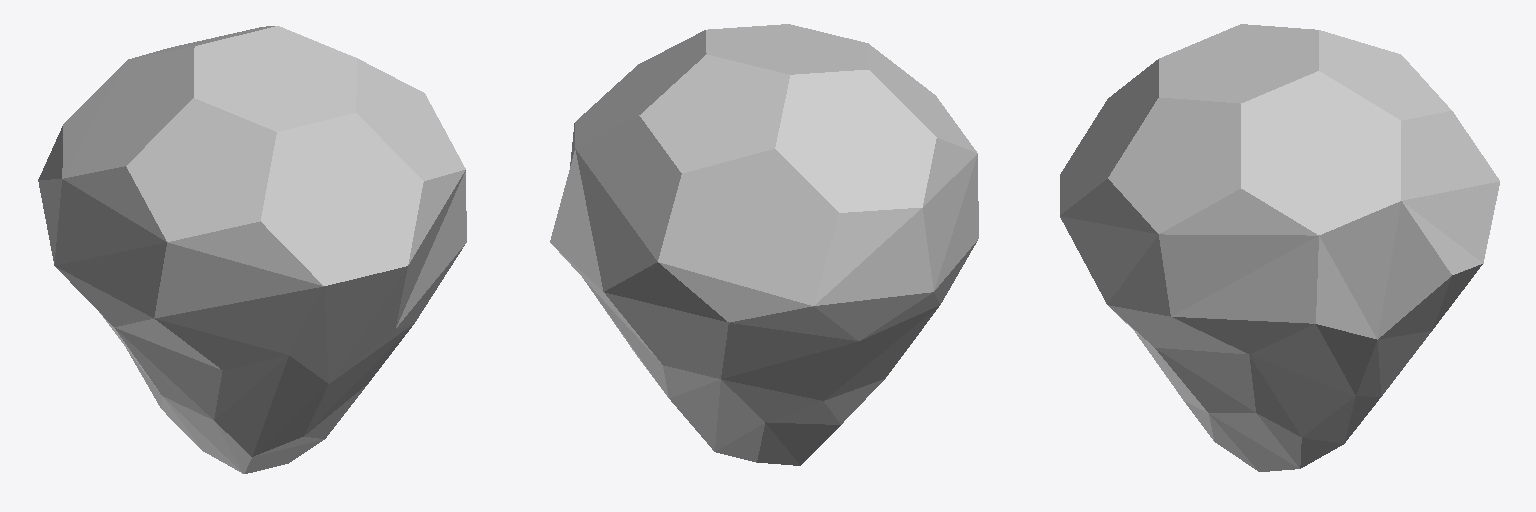
File: resource2.obj
3 views of the same model, side by side, from view 1: azimuth 30°, elevation 25°; view 2: azimuth 150°, elevation 25°; view 3: azimuth 270°, elevation 25° (orthographic).
Parts seen in each view (by area): view 1: Platonic.001; view 2: Platonic.001; view 3: Platonic.001.
Boxes of the visible parts, x1=… form: Platonic.001: x1=38, y1=26, x2=466, y2=473; Platonic.001: x1=550, y1=24, x2=978, y2=465; Platonic.001: x1=1060, y1=24, x2=1499, y2=471.
Size of the model in its own units: 177 by 189 by 184.